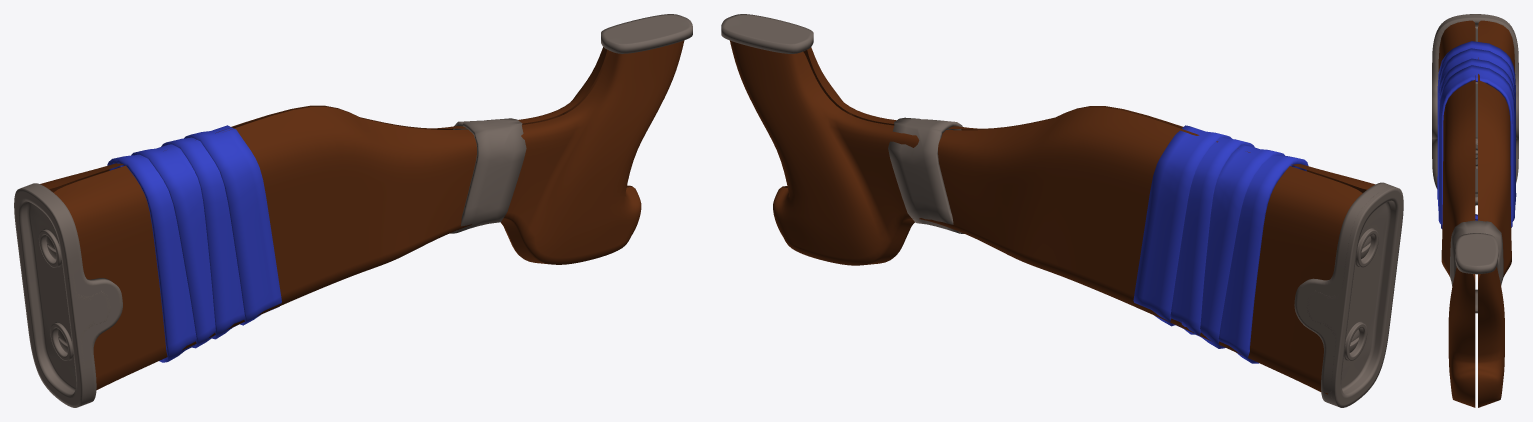
File: grip_01.fbx
3 views of the same model, side by side, from view 1: azimuth 30°, elevation 25°; view 2: azimuth 150°, elevation 25°; view 3: azimuth 270°, elevation 25° (orthographic). The views are drawn at different scales.
Visible parts, largest first — view 1: Plane.040, Circle.070, LOLO, Plane.076, Cube.056; view 2: Plane.040, Circle.070, LOLO, Plane.076, Cube.056; view 3: Plane.040, Circle.070, LOLO, Cube.056, Plane.076.
Part boxes in pixels (x1,y1,x2,y2): Plane.040: [40, 40, 684, 390]; Circle.070: [107, 125, 281, 362]; LOLO: [14, 183, 122, 407]; Plane.076: [450, 118, 526, 233]; Cube.056: [601, 14, 692, 53]; Plane.040: [730, 40, 1375, 394]; Circle.070: [1133, 125, 1308, 363]; LOLO: [1294, 182, 1403, 407]; Plane.076: [888, 117, 964, 233]; Cube.056: [721, 14, 813, 53]; Plane.040: [1438, 20, 1514, 407]; Circle.070: [1437, 41, 1516, 228]; LOLO: [1432, 14, 1518, 205]; Cube.056: [1455, 233, 1498, 274]; Plane.076: [1450, 220, 1503, 313].
Bounding box in the file's own units: 153 × 52.4 × 21.04.
